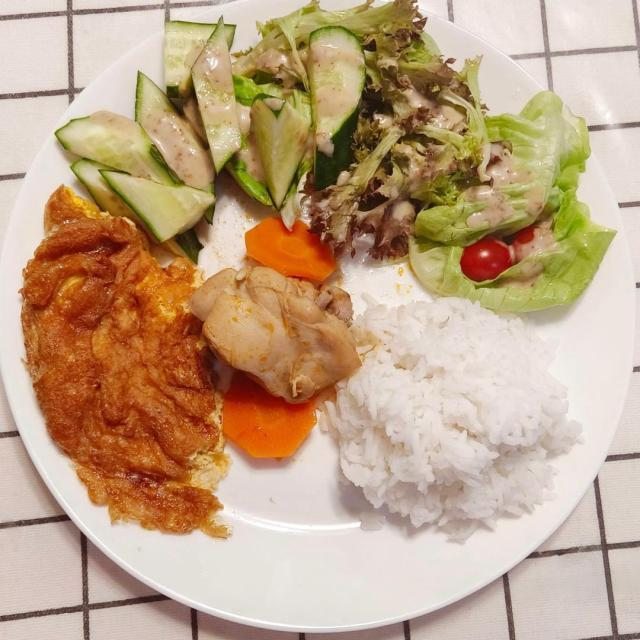Chicken: (180, 265, 364, 405)
Egg: (19, 184, 233, 541)
Plate: (358, 0, 639, 634)
Rice: (314, 301, 584, 544)
Vegetables: (56, 0, 618, 316), (216, 374, 320, 460)
